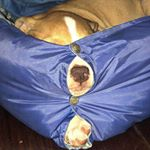puppy: (12, 9, 105, 97)
